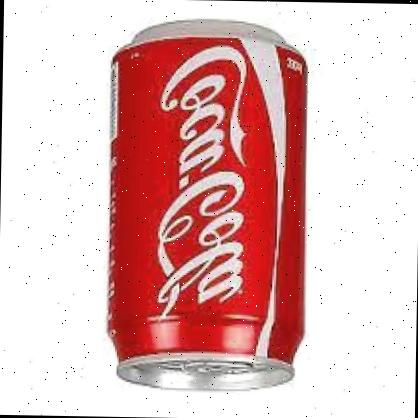can: (100, 17, 312, 394)
